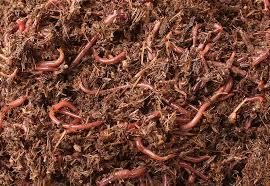Insects: (178, 89, 229, 132), (47, 98, 104, 132), (66, 31, 98, 74), (73, 78, 154, 93), (0, 92, 30, 132), (134, 138, 176, 163), (98, 167, 148, 186), (35, 46, 67, 71), (91, 44, 128, 64), (186, 22, 204, 54), (99, 10, 125, 26)
